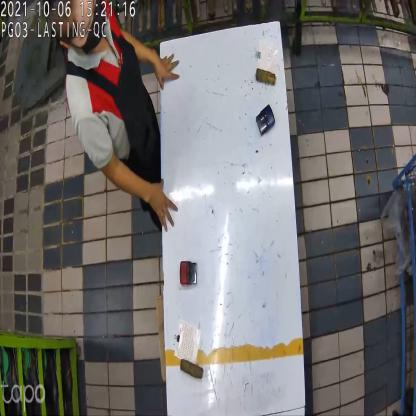stamp: (257, 103, 275, 136), (179, 257, 197, 288)
